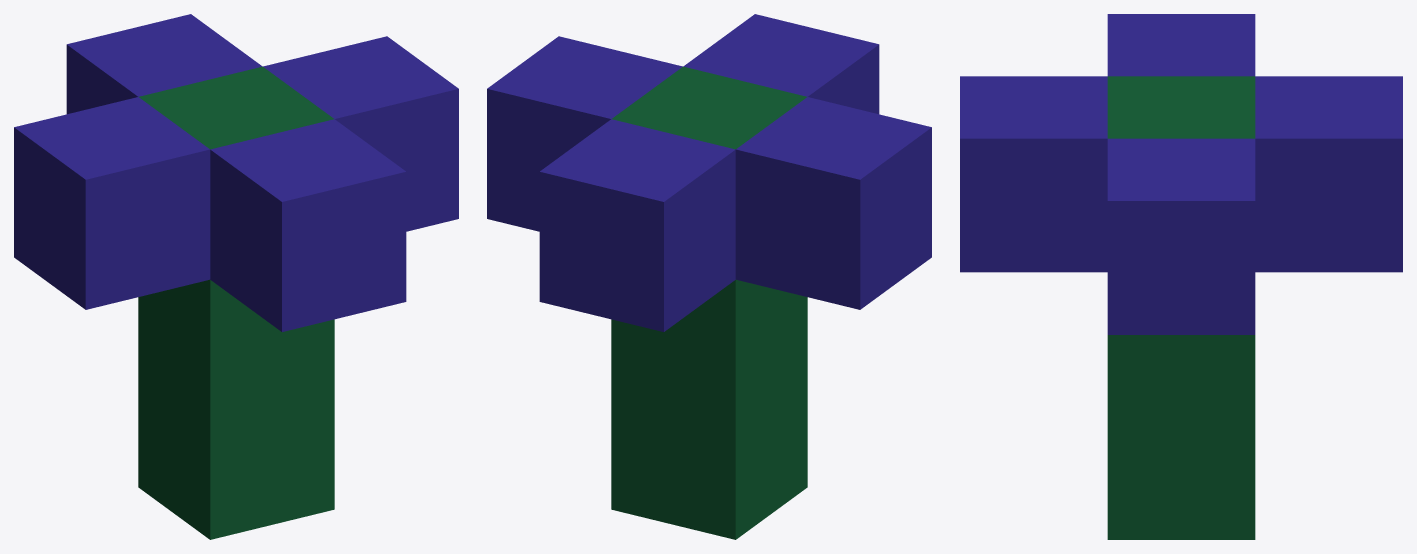
Rendered from flower_g_2.obj.
The picture shows the model from 3 angles, left to right: view 1: azimuth 30°, elevation 25°; view 2: azimuth 150°, elevation 25°; view 3: azimuth 270°, elevation 25°; orthographic projection. The views are drawn at different scales.
Size of the model in its own units: 0.3 by 0.3 by 0.3.
1 material, 1 textured.
